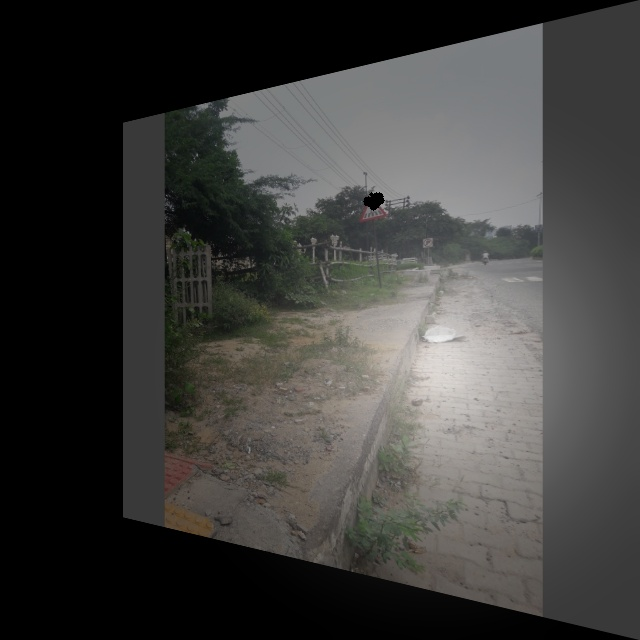Pedestrian_Crossing: (358, 185, 393, 224)
